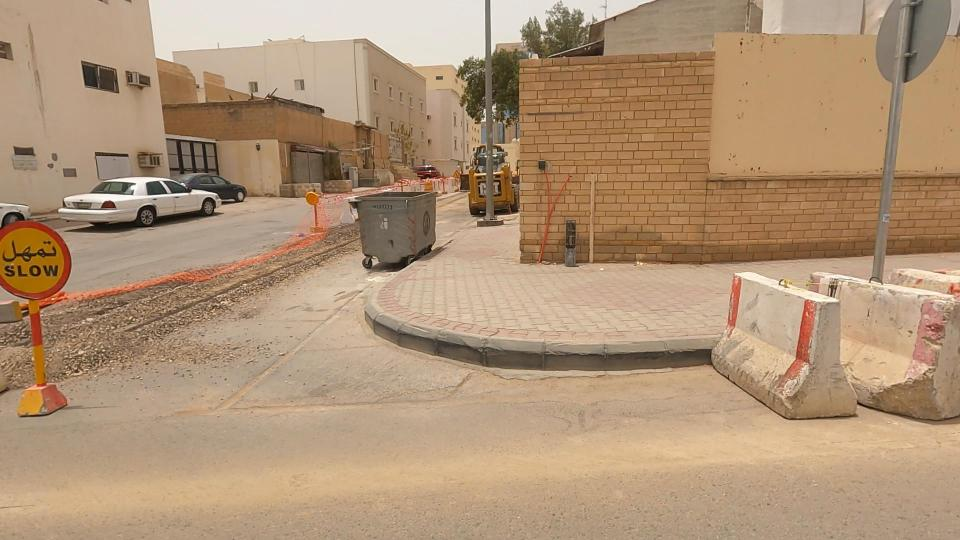CONSTRUCTION_ROAD: (2, 188, 418, 336), (301, 164, 524, 220)
